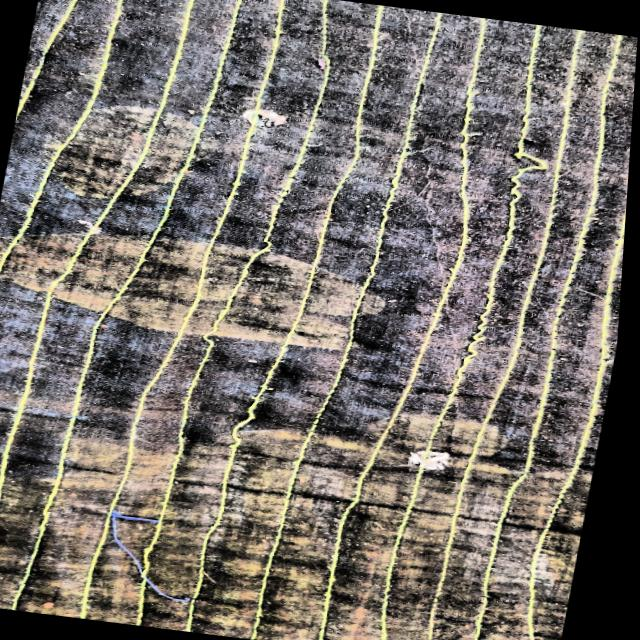Stitch: (88, 484, 242, 610), (490, 136, 574, 228)
